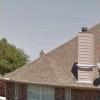Chimney: (73, 20, 100, 93)
